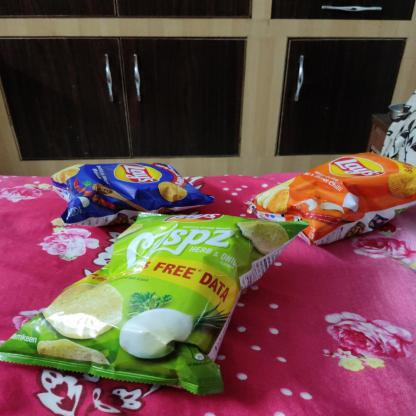hot_and_sweet: (246, 153, 415, 248)
indian_magic_masala: (52, 160, 210, 221)
